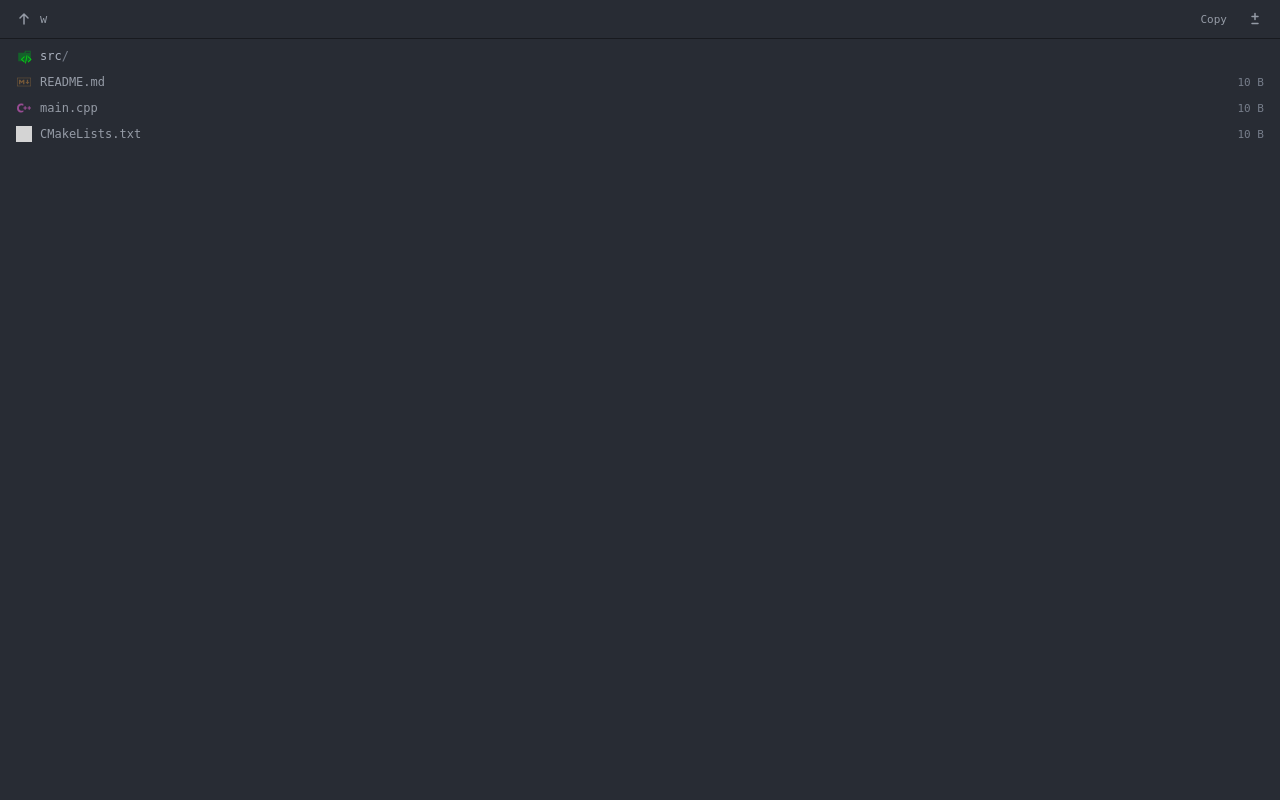
the Files panel's icons and changes › counts only what there is: no −0 in the head when nothing was removed
The image size is (1280, 800).
expect the element with class "dir-view" is shown: met, box [0,39,1279,151]
Click the button titled "Changes against the base branch" at (1255, 19), box [1238,6,1272,32]
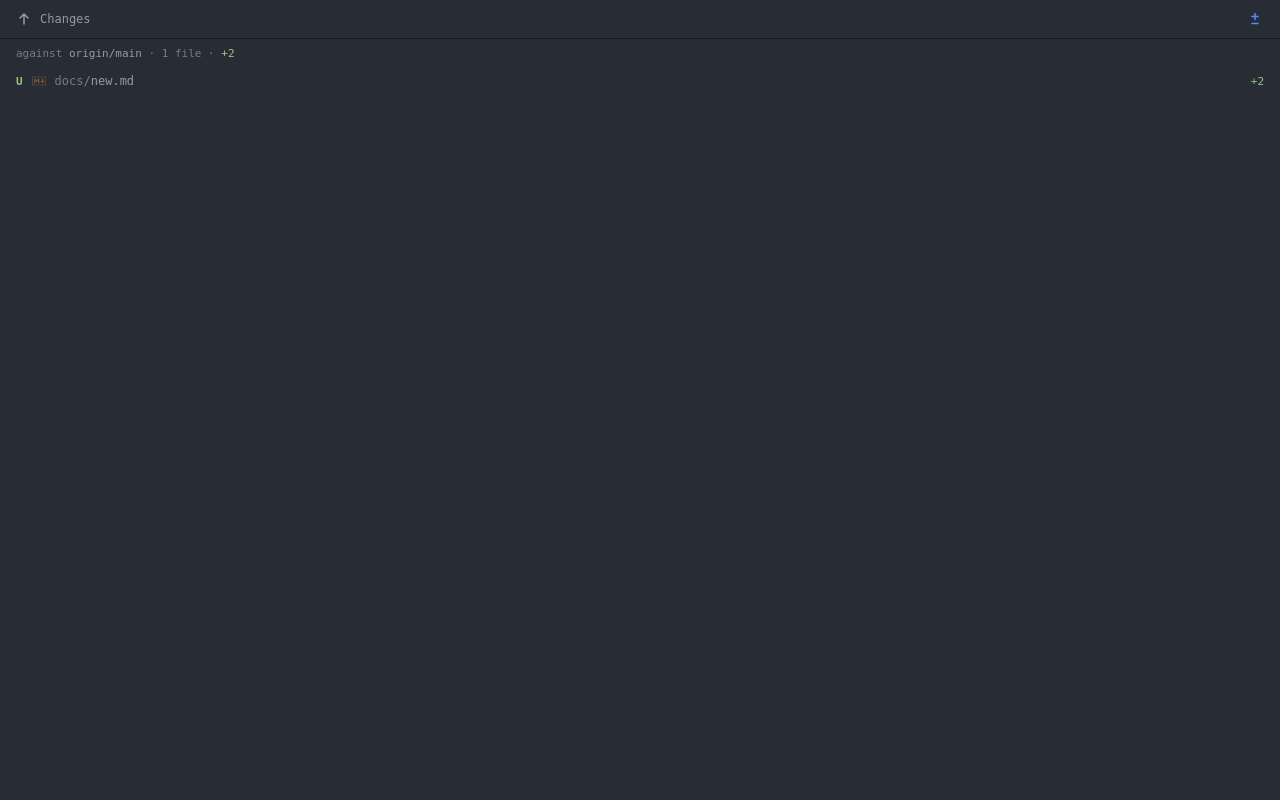
expect the element with class "changes" is shown: met, box [0,39,1279,98]
expect the element with class "changes-head" reads "against origin/main · 1 file · +2": met, box [16,47,235,60]
